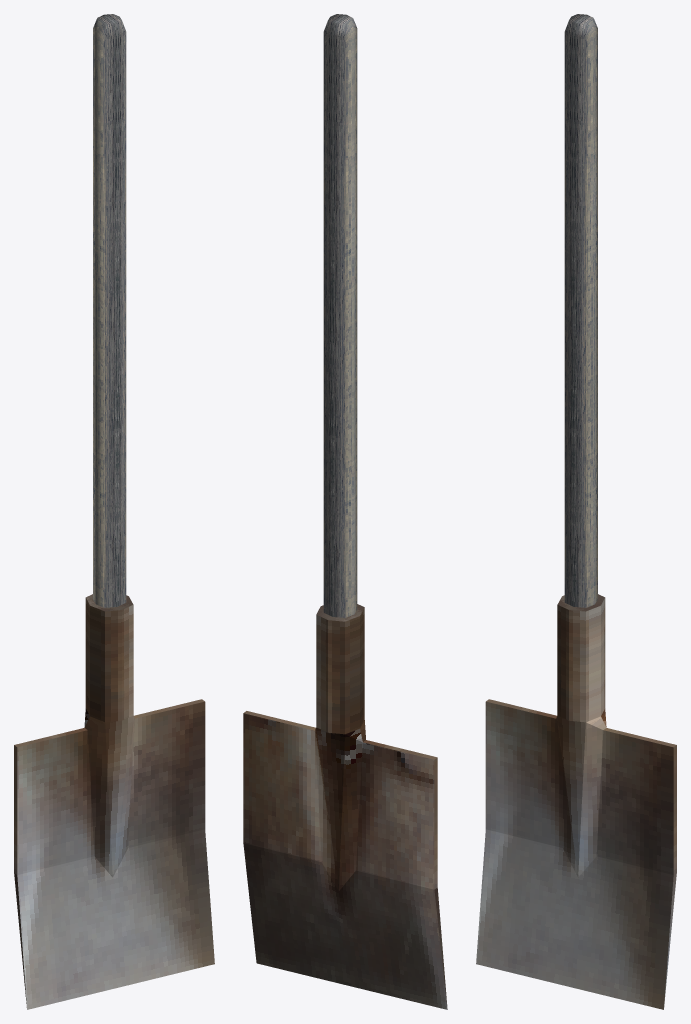
File: shovel.glb
The picture shows the model from 3 angles, left to right: view 1: azimuth 30°, elevation 25°; view 2: azimuth 150°, elevation 25°; view 3: azimuth 330°, elevation 25°; orthographic projection.
Visible parts, largest first — view 1: Shovel, Handke; view 2: Shovel, Handke; view 3: Shovel, Handke.
Part boxes in pixels (x1,y1,x2,y2): Shovel: (14,594,214,1009); Handke: (93,14,126,607); Shovel: (243,604,447,1009); Handke: (323,14,357,617); Shovel: (476,594,676,1009); Handke: (564,14,597,607).
Size of the model in its own units: 2 by 9.76 by 0.452.
Materials: 2 (2 with a texture image).
